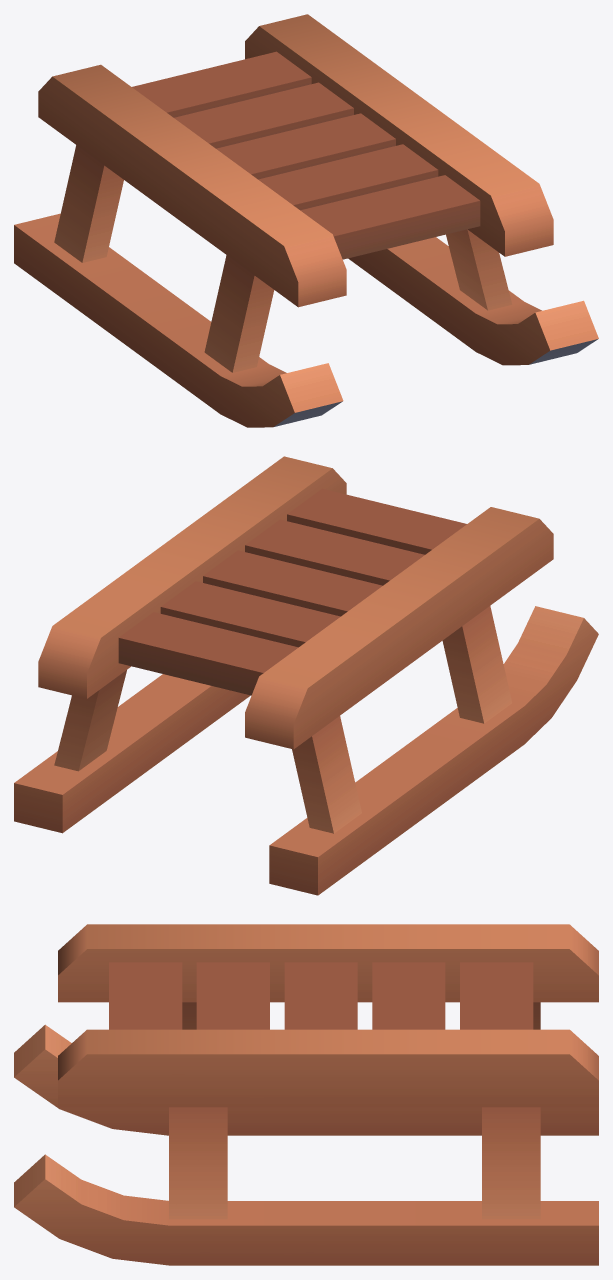
File: k-holiday-sled-long.glb
3 renders of one model, top to bottom at view 1: azimuth 30°, elevation 25°; view 2: azimuth 150°, elevation 25°; view 3: azimuth 270°, elevation 25°, orthographic. The views are drawn at different scales.
Parts seen in each view (by area): view 1: sled-long; view 2: sled-long; view 3: sled-long.
Part boxes in pixels (box(x1,y1,x2,y2)): sled-long: box(14, 14, 598, 427); sled-long: box(14, 456, 598, 895); sled-long: box(14, 924, 598, 1265).
Bounding box in the file's own units: 0.625 × 0.3753 × 1.
1 material, 1 textured.
